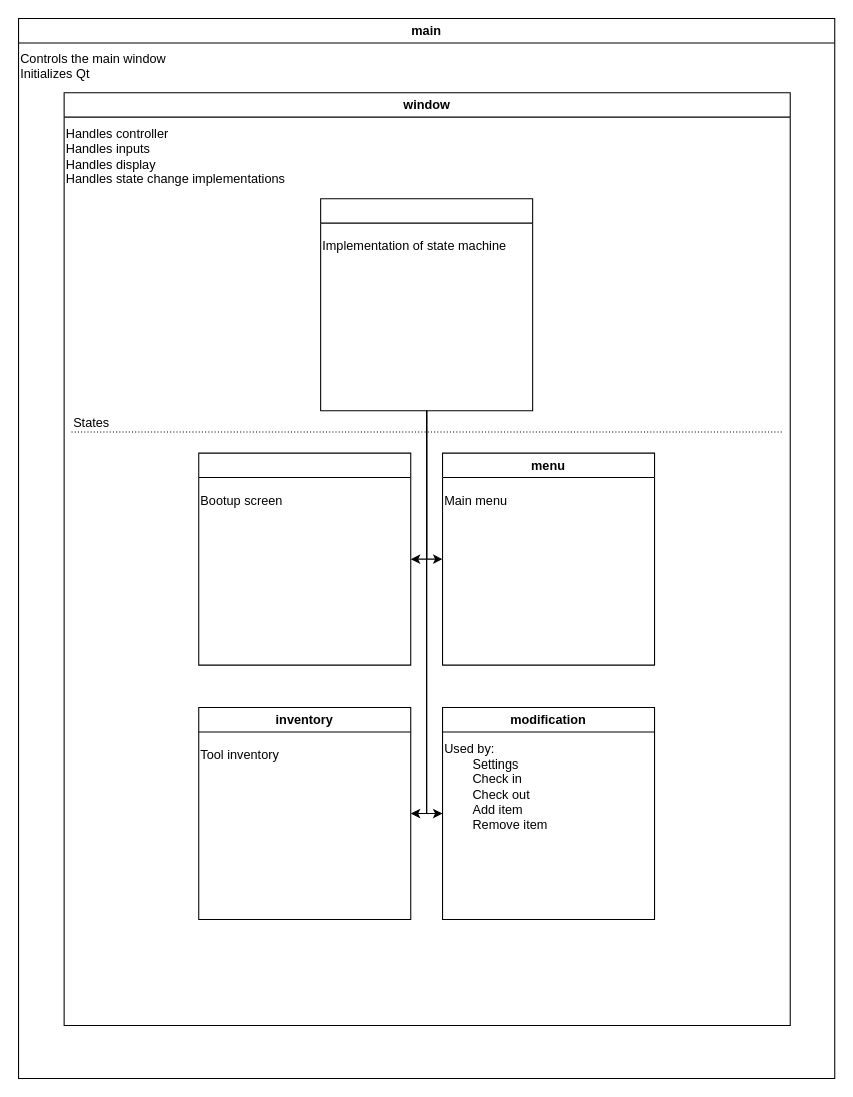
This 853x1097 diagram has some shape labels left out. The box of each missing label's shape, as (x1, y1, x2, y2) in pixels:
controller: (320, 198, 533, 411)
start: (198, 452, 411, 665)
